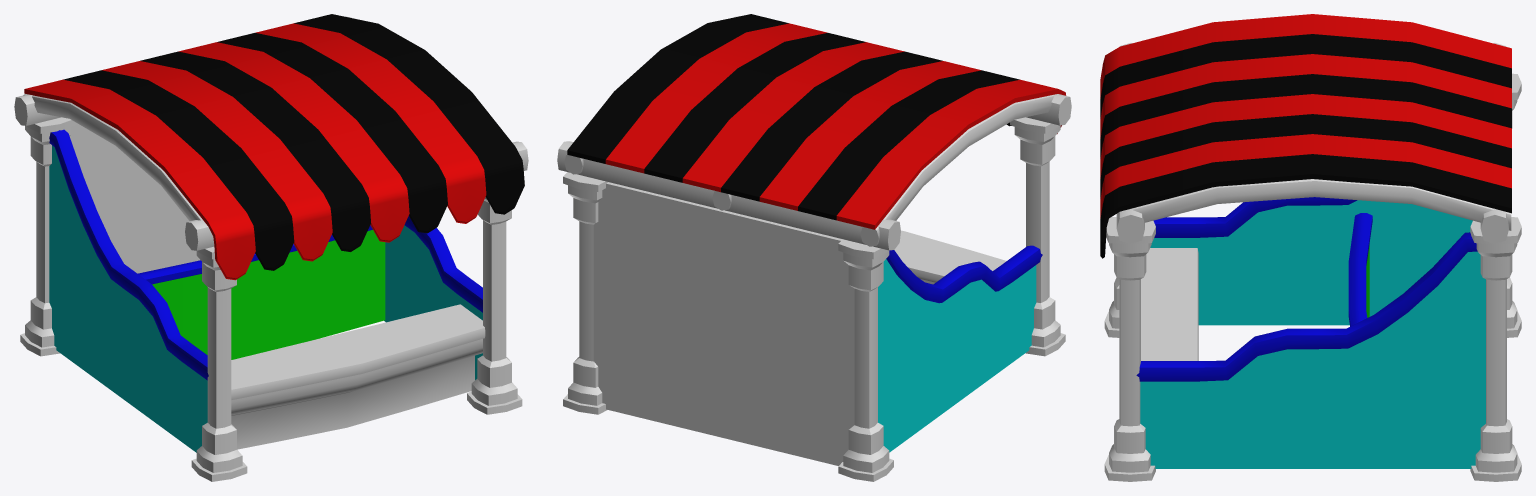
The model's file is carnival tent fbx.fbx.
3 views of the same model, side by side, from view 1: azimuth 30°, elevation 25°; view 2: azimuth 150°, elevation 25°; view 3: azimuth 270°, elevation 25° (orthographic). The views are drawn at different scales.
Parts seen in each view (by area): view 1: pCube6, pCube53, pCube1, pCube40, pCube2, pCube46, pCube45______, pCube3, pCube44, pCube16, pCube47, pCube18; view 2: pCube2, pCube6, pCube53, pCube44, pCube45______, pCube18, pCube43, pCube16, pCube1, pCube47; view 3: pCube6, pCube46, pCube53, pCube3, pCube43, pCube50, pCube1, pCube40, pCube44, pCube47, pCube18, pCube45______.
Boxes of the visible parts, bbox=[...] form: pCube6: bbox=[24, 14, 524, 280]; pCube53: bbox=[49, 129, 208, 452]; pCube1: bbox=[231, 304, 485, 449]; pCube40: bbox=[138, 225, 385, 359]; pCube2: bbox=[69, 122, 200, 273]; pCube46: bbox=[384, 216, 482, 379]; pCube45______: bbox=[191, 246, 247, 481]; pCube3: bbox=[467, 197, 522, 414]; pCube44: bbox=[20, 117, 75, 356]; pCube16: bbox=[23, 94, 207, 225]; pCube47: bbox=[185, 141, 528, 250]; pCube18: bbox=[14, 16, 351, 125]; pCube2: bbox=[593, 182, 854, 465]; pCube6: bbox=[567, 14, 1066, 229]; pCube53: bbox=[878, 245, 1042, 452]; pCube44: bbox=[838, 239, 893, 481]; pCube45______: bbox=[1010, 117, 1065, 356]; pCube18: bbox=[557, 141, 900, 250]; pCube43: bbox=[563, 172, 608, 414]; pCube16: bbox=[860, 94, 1057, 246]; pCube1: bbox=[894, 230, 1006, 284]; pCube47: bbox=[734, 16, 1071, 125]; pCube6: bbox=[1100, 14, 1511, 258]; pCube46: bbox=[1136, 232, 1485, 468]; pCube53: bbox=[1150, 197, 1472, 325]; pCube3: bbox=[1104, 217, 1155, 481]; pCube43: bbox=[1470, 217, 1521, 481]; pCube50: bbox=[1122, 179, 1511, 230]; pCube1: bbox=[1141, 248, 1198, 360]; pCube40: bbox=[1348, 213, 1372, 326]; pCube44: bbox=[1507, 73, 1521, 337]; pCube47: bbox=[1116, 43, 1144, 243]; pCube18: bbox=[1480, 43, 1508, 243]; pCube45______: bbox=[1104, 277, 1119, 337].
Bounding box in the file's own units: 10.64 × 8.82 × 11.02.
